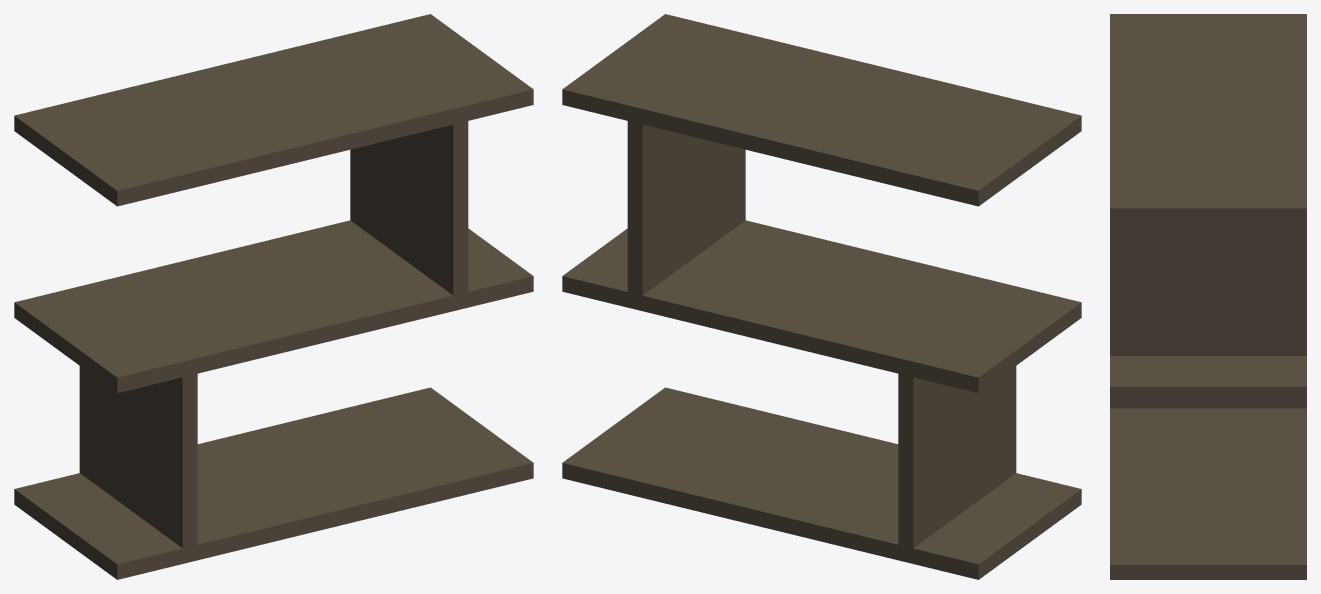
File: SM_Props_Interior_House_Room_Shelf_03.fbx
3 views of the same model, side by side, from view 1: azimuth 30°, elevation 25°; view 2: azimuth 150°, elevation 25°; view 3: azimuth 270°, elevation 25° (orthographic). The views are drawn at different scales.
Parts seen in each view (by area): view 1: SM_Props_Interior_House_Room_Shelf_03; view 2: SM_Props_Interior_House_Room_Shelf_03; view 3: SM_Props_Interior_House_Room_Shelf_03.
Boxes of the visible parts, x1,y1,x2,y2 form: SM_Props_Interior_House_Room_Shelf_03: (14, 14, 533, 579); SM_Props_Interior_House_Room_Shelf_03: (562, 14, 1081, 579); SM_Props_Interior_House_Room_Shelf_03: (1110, 14, 1306, 579).
Size of the model in its own units: 70 by 62.5 by 30.
